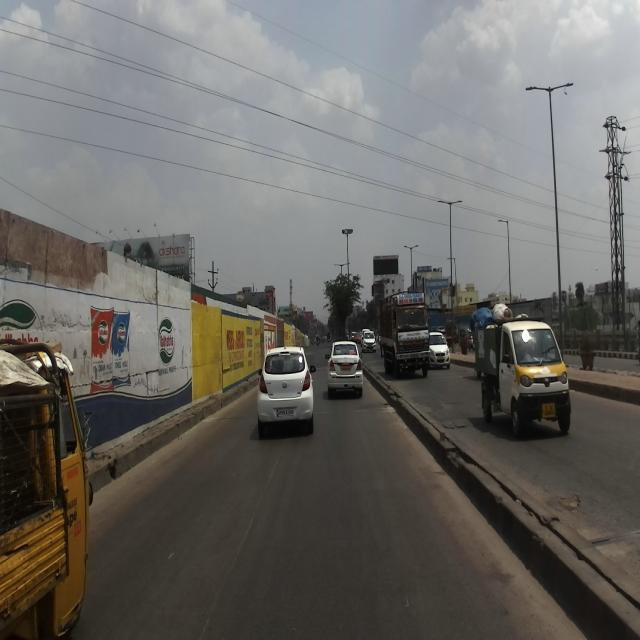autorickshaw: (0, 338, 95, 640)
car: (256, 343, 317, 440), (324, 336, 363, 398), (428, 330, 452, 369)
truck: (470, 308, 581, 431), (377, 292, 432, 376)
